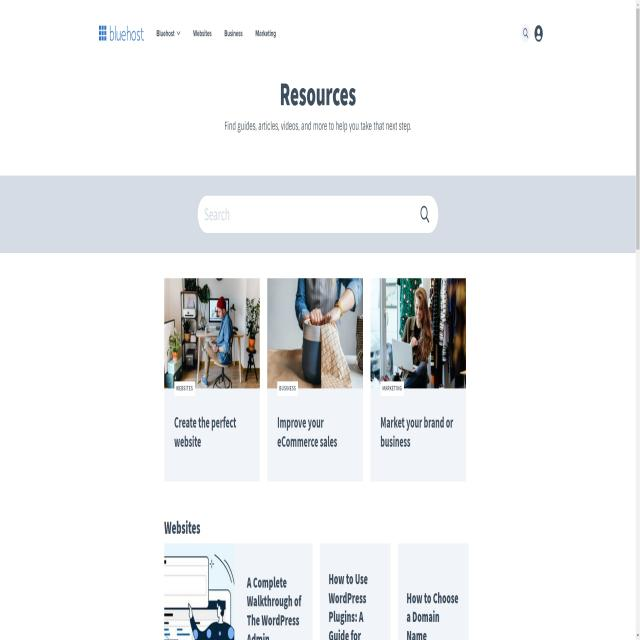menu-bar: (154, 23, 282, 51)
search: (194, 190, 441, 237)
